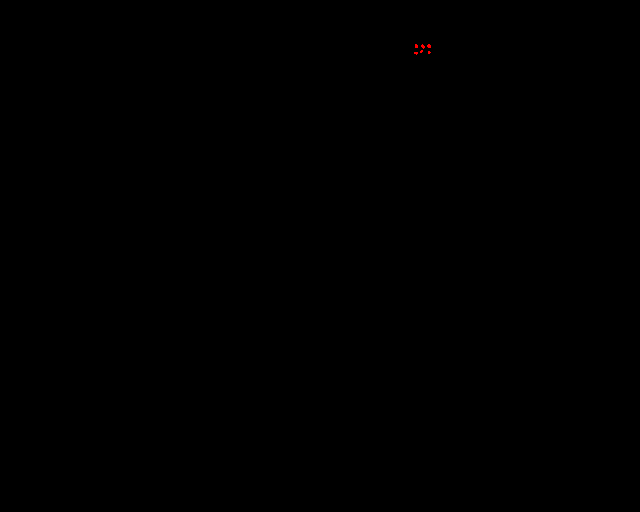Target: (421, 44, 425, 49), (427, 44, 431, 48), (415, 44, 418, 48), (414, 52, 418, 55), (420, 50, 423, 53), (428, 51, 431, 54)
